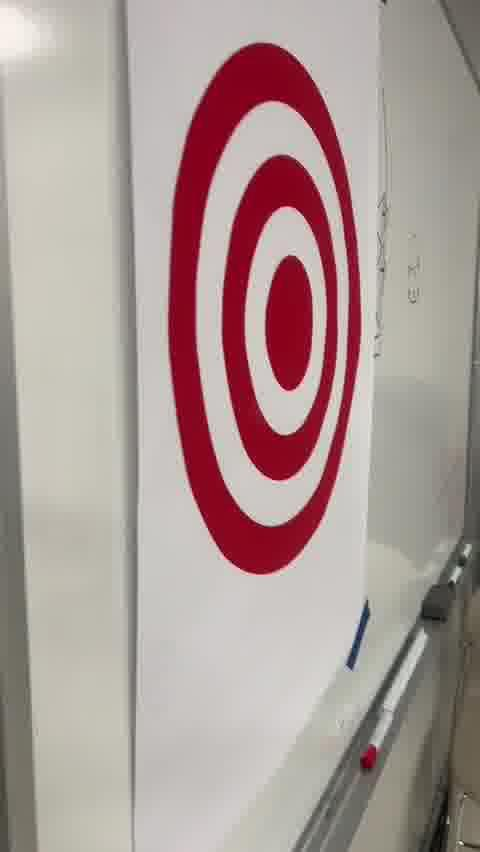target_red: (168, 41, 365, 572)
